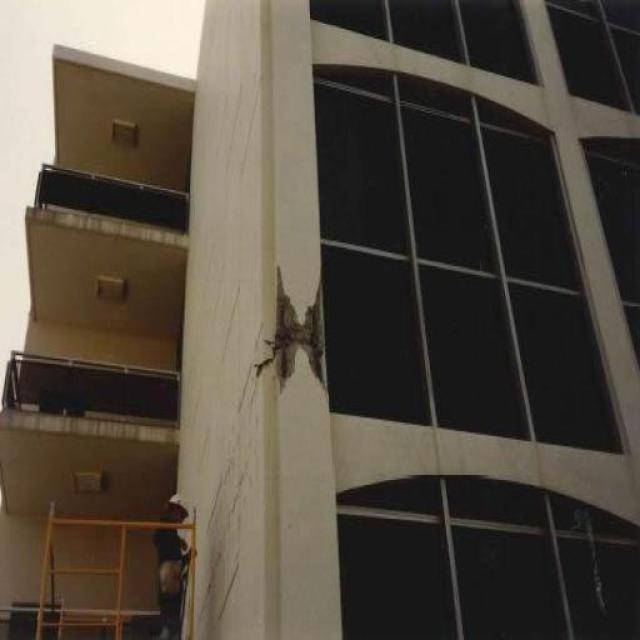D0w0: (256, 268, 324, 388)
